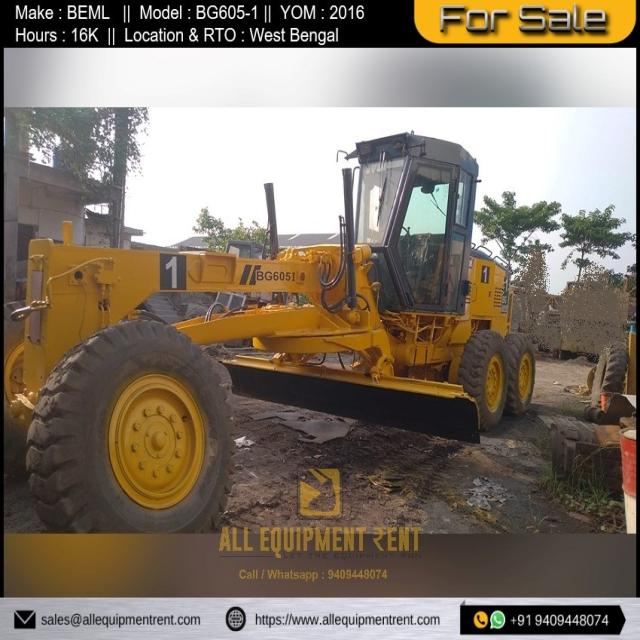buldozerpayloadergrader: (51, 135, 533, 494)
